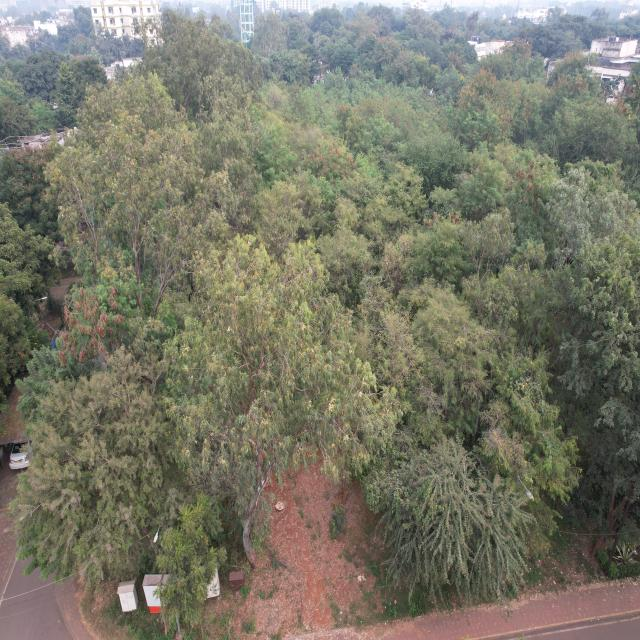Devakanchan tree: (572, 249, 637, 493)
